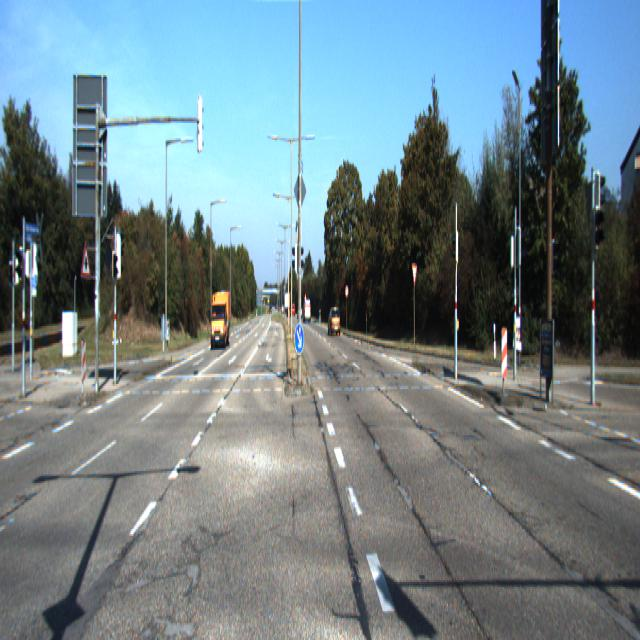Car: (208, 291, 232, 352), (328, 306, 341, 337)
